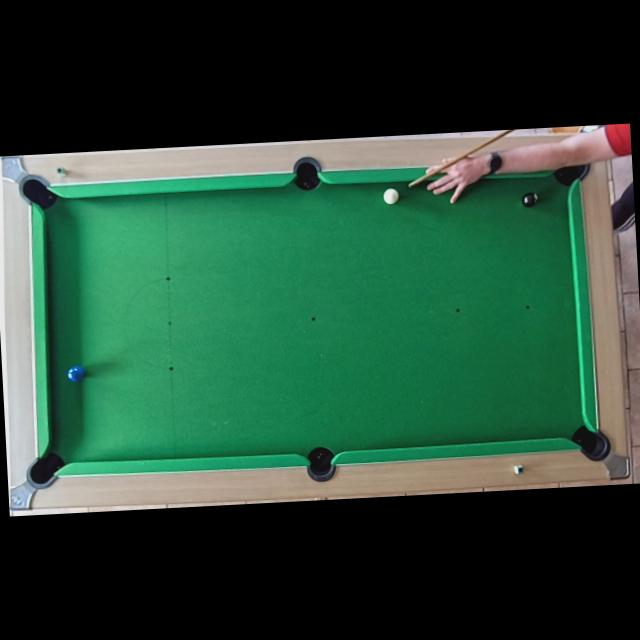Ball: (66, 365, 86, 383), (521, 191, 539, 209), (383, 188, 400, 205)
